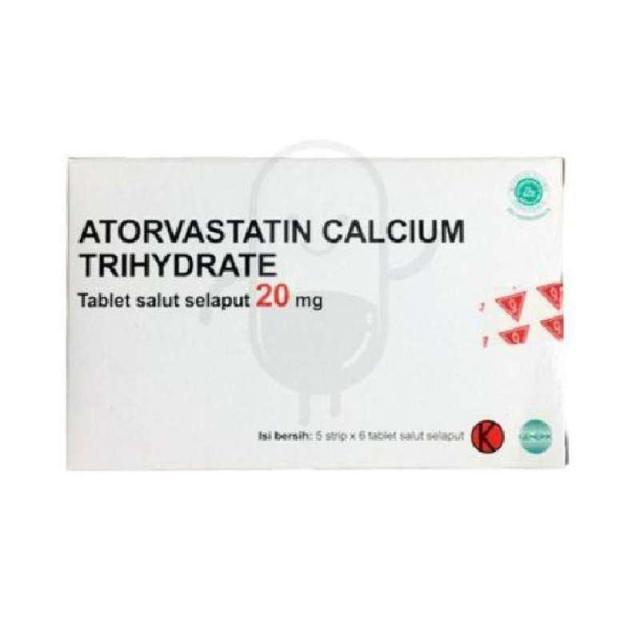drug-name: (78, 214, 312, 250)
